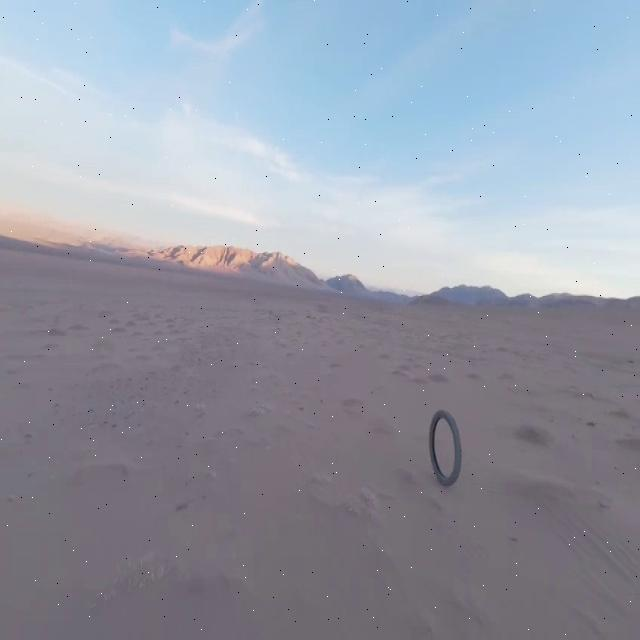Tire: (429, 410, 461, 486)
